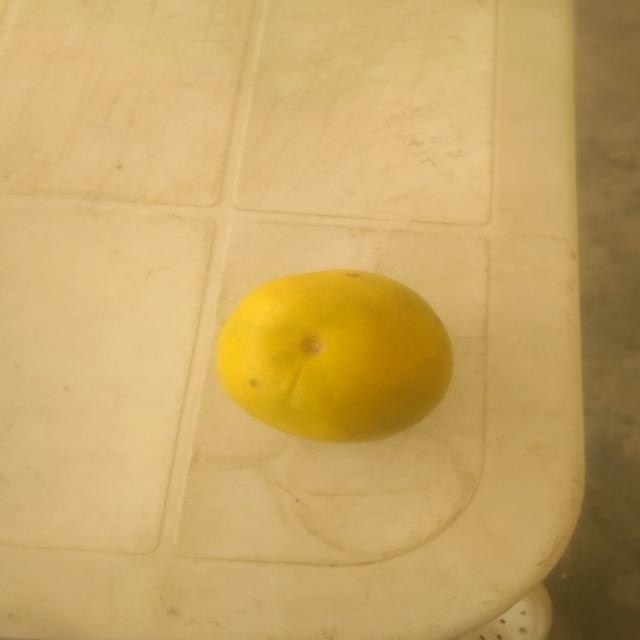agrume: (199, 259, 465, 457)
